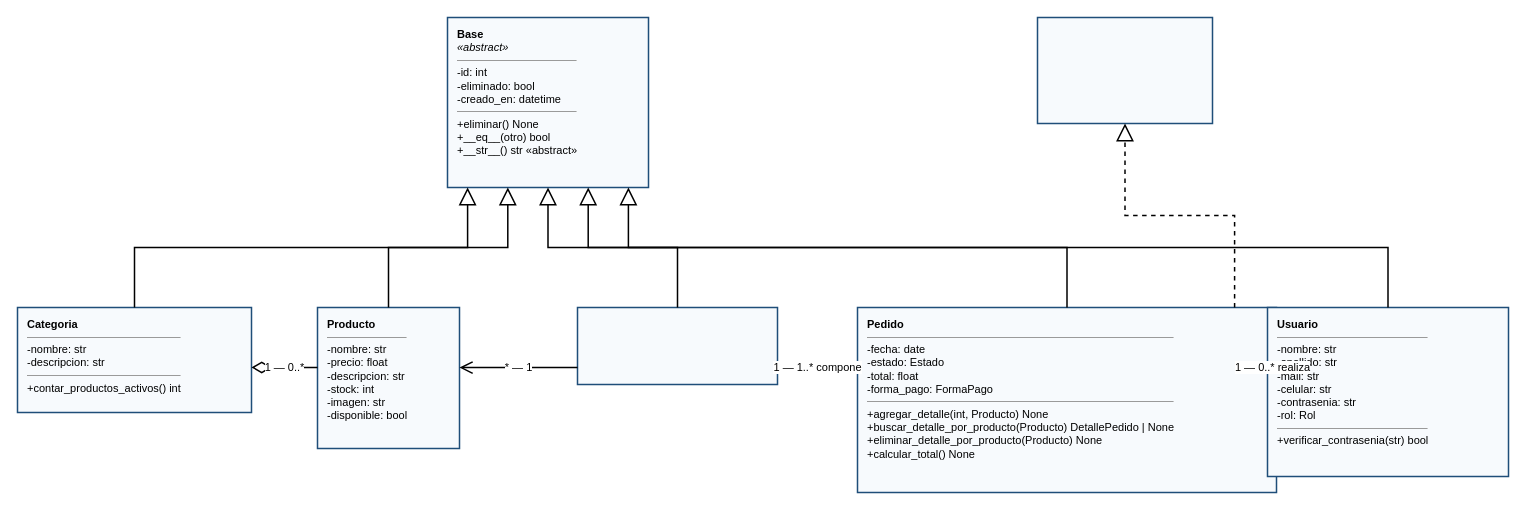
The diagram is 1527 pixels wide and 511 high, and some of its shapes have lost their labels. The shapes that lost their labels are listed below. From the top down, each one's centre as x and y in pixels, then its label:
(x=1124, y=70): Calculable «interface» +calcular_total() None
(x=677, y=345): DetallePedido -cantidad: int -subtotal: float
